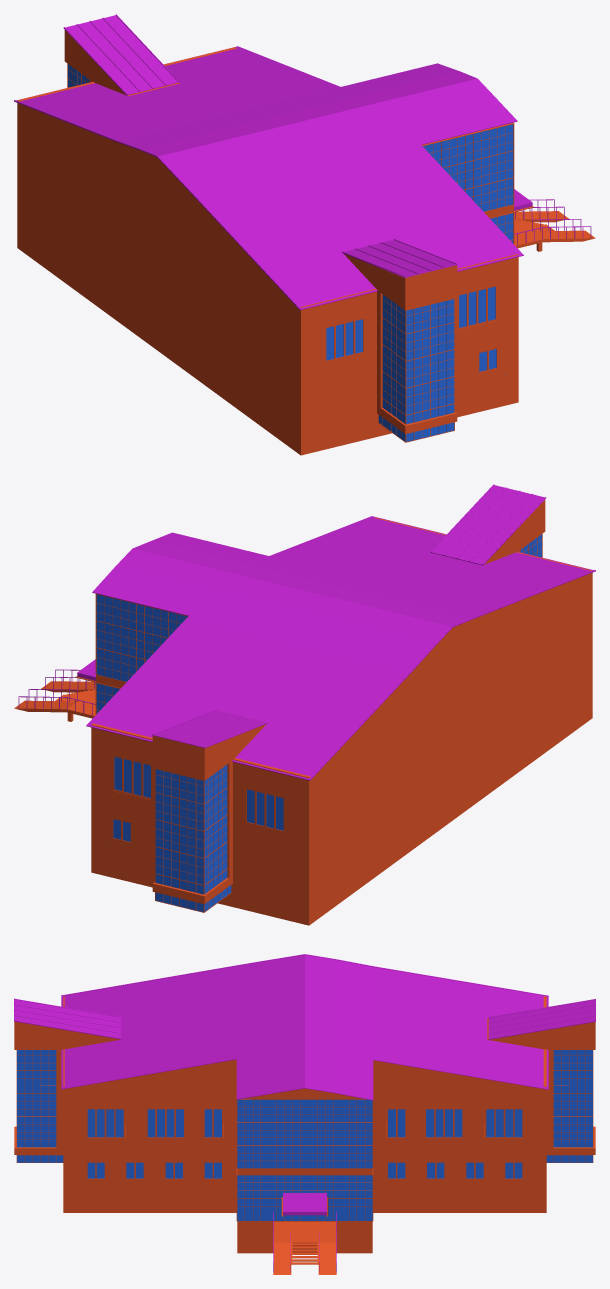
The model's file is ResearchBuilding.FBX.
3 views of the same model, one above another, from view 1: azimuth 30°, elevation 25°; view 2: azimuth 150°, elevation 25°; view 3: azimuth 270°, elevation 25° (orthographic). The views are drawn at different scales.
Visible parts, largest first — view 1: Wall, Roof, Glass; view 2: Wall, Roof, Glass; view 3: Wall, Roof, Glass.
Part boxes in pixels (x1,y1,x2,y2): Wall: (17, 30, 595, 455); Roof: (14, 14, 523, 310); Glass: (68, 64, 513, 441); Wall: (14, 499, 592, 925); Roof: (86, 484, 595, 780); Glass: (96, 534, 541, 911); Wall: (14, 996, 595, 1274); Roof: (14, 954, 595, 1100); Glass: (17, 1050, 592, 1220).
Bounding box in the file's own units: 91.97 × 41.03 × 129.
